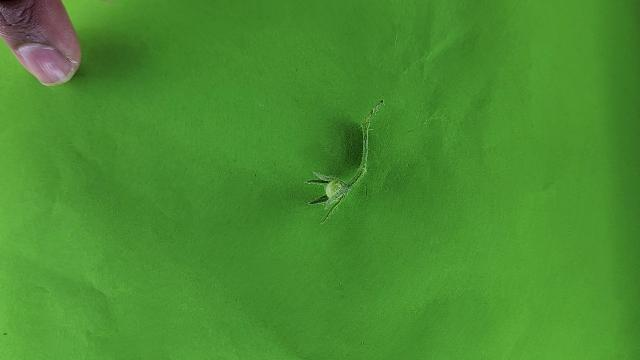Fruit Bud: (305, 174, 352, 221)
